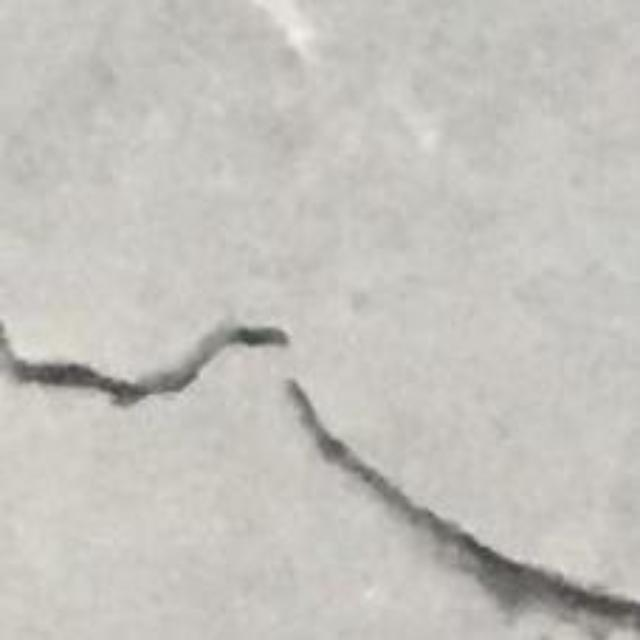crack: (285, 378, 639, 625)
